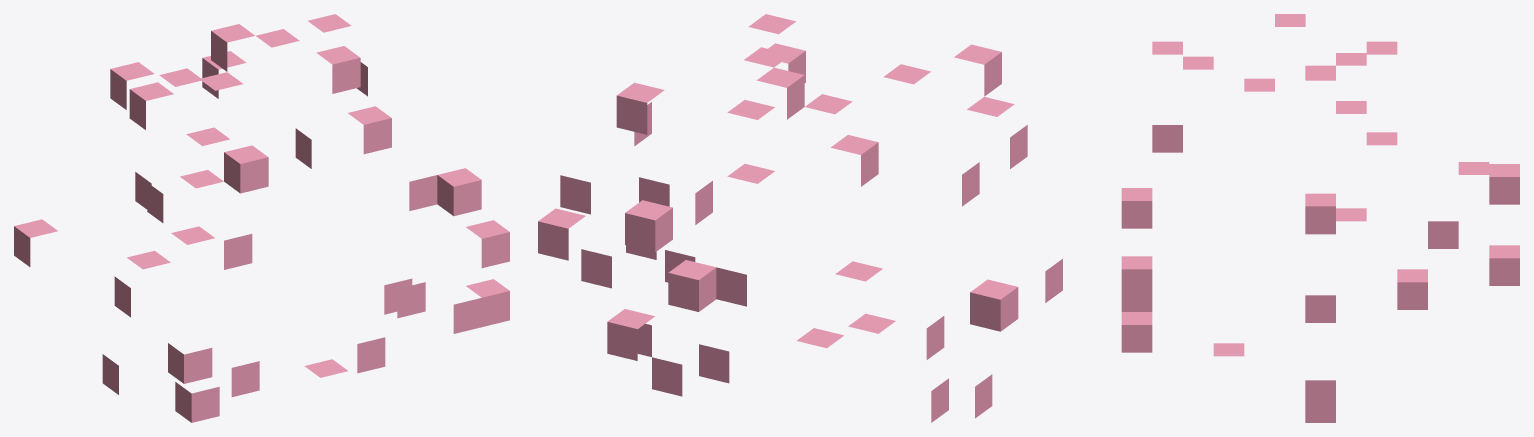
File: tree-cherry-1p3-white-ffa8c4.gltf
3 renders of one model, left to right at view 1: azimuth 30°, elevation 25°; view 2: azimuth 150°, elevation 25°; view 3: azimuth 270°, elevation 25°, orthographic. The views are drawn at different scales.
Visible parts, largest first — view 1: tree-cherry-1p3-white-ffa8c4; view 2: tree-cherry-1p3-white-ffa8c4; view 3: tree-cherry-1p3-white-ffa8c4.
Part boxes in pixels (x1=…): tree-cherry-1p3-white-ffa8c4: x1=14, y1=14, x2=509, y2=422; tree-cherry-1p3-white-ffa8c4: x1=538, y1=14, x2=1062, y2=422; tree-cherry-1p3-white-ffa8c4: x1=1121, y1=14, x2=1519, y2=422.
Bounding box in the file's own units: 15 × 11 × 14.
